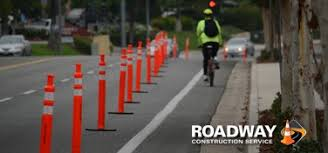cones: (87, 50, 121, 133)
